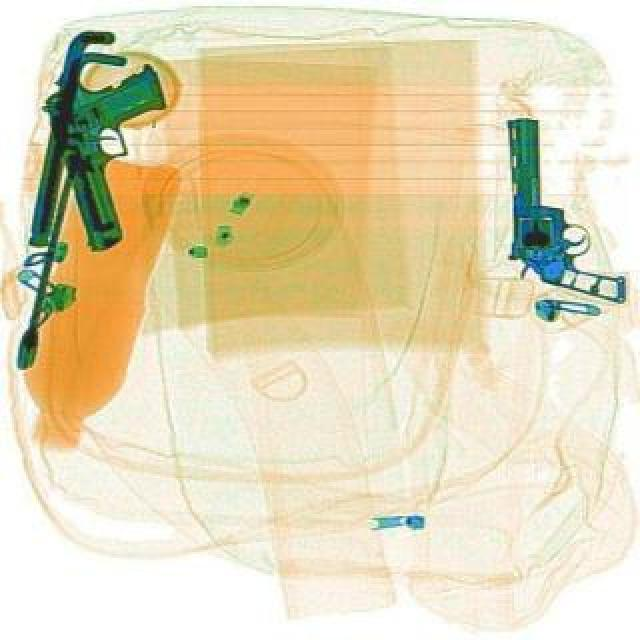gun: (32, 58, 208, 258), (502, 120, 626, 308)
